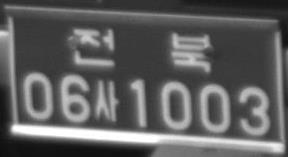0: (199, 81, 231, 134), (160, 79, 192, 131), (23, 71, 54, 121)
1: (126, 77, 152, 127)
3: (238, 85, 271, 137)
6: (59, 73, 91, 123)
사: (94, 79, 120, 122)
전북_D: (72, 26, 212, 73)
